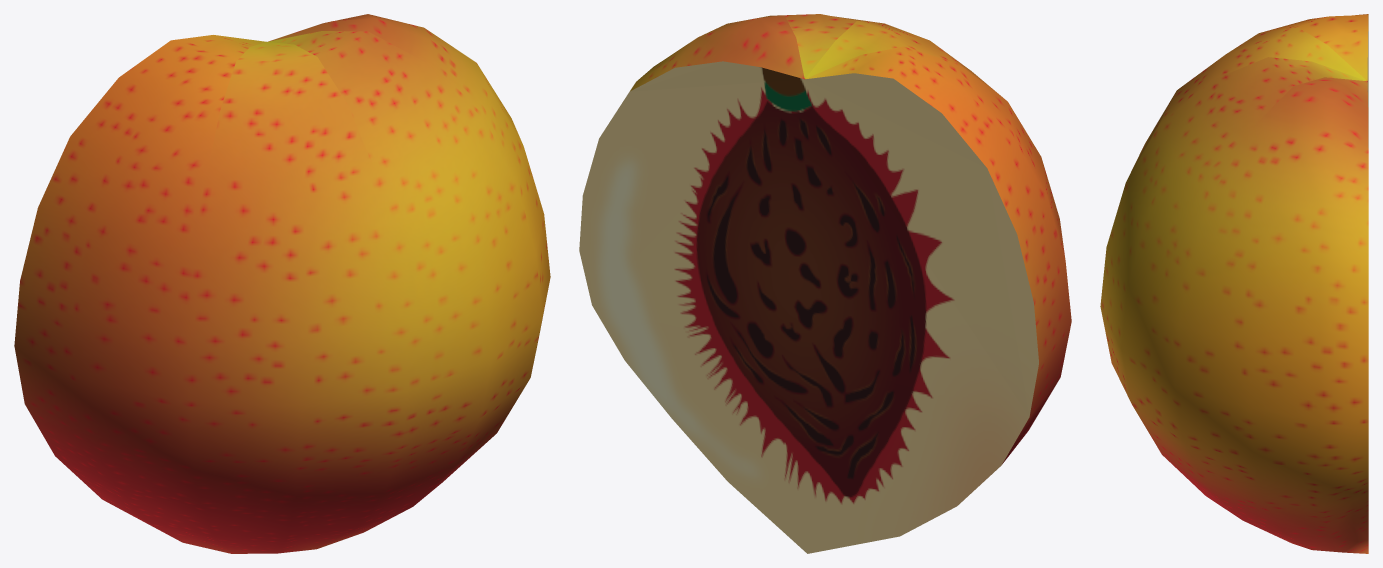
File: peachS.FBX
3 views of the same model, side by side, from view 1: azimuth 30°, elevation 25°; view 2: azimuth 150°, elevation 25°; view 3: azimuth 270°, elevation 25° (orthographic). The views are drawn at different scales.
Visible parts, largest first — view 1: Peach001; view 2: Peach001; view 3: Peach001.
Boxes of the visible parts, x1,y1,x2,y2 form: Peach001: (14,14,550,553); Peach001: (579,14,1071,553); Peach001: (1100,14,1368,553).
Size of the model in its own units: 6.92 by 7.09 by 3.46.
